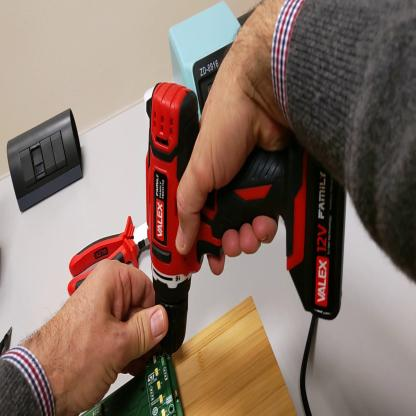electric screwdriver: (145, 80, 307, 358)
hand: (176, 11, 293, 279), (42, 257, 167, 406)
low voltage board: (83, 354, 187, 416)
pliers: (69, 212, 151, 299)
welder station: (170, 5, 243, 124)
working area: (173, 297, 299, 416)
